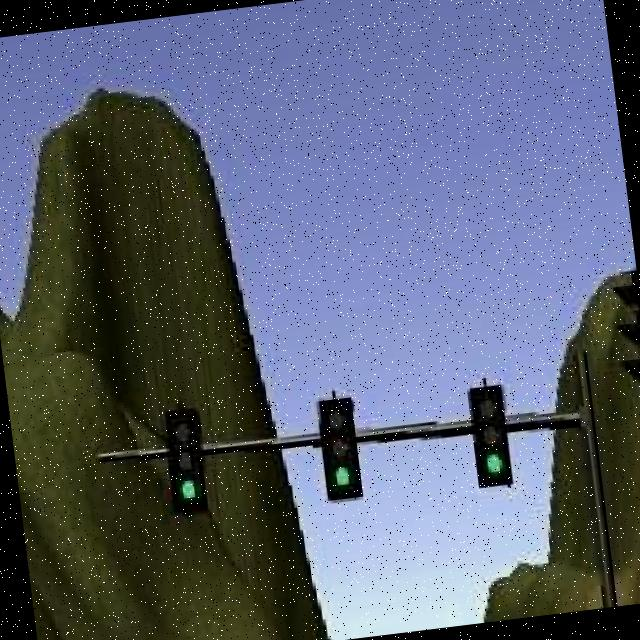Zielone swiatlo: (466, 384, 516, 491), (318, 396, 365, 501), (164, 406, 208, 514)
